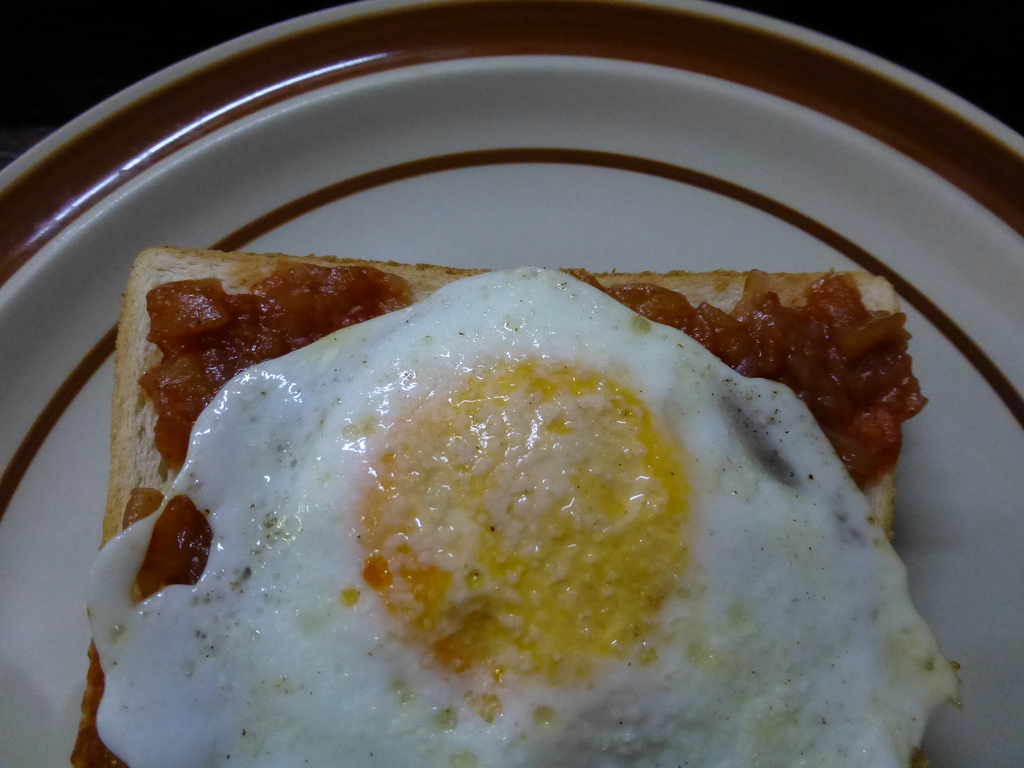fried egg: (230, 346, 801, 756)
slice of bread: (79, 206, 952, 383)
